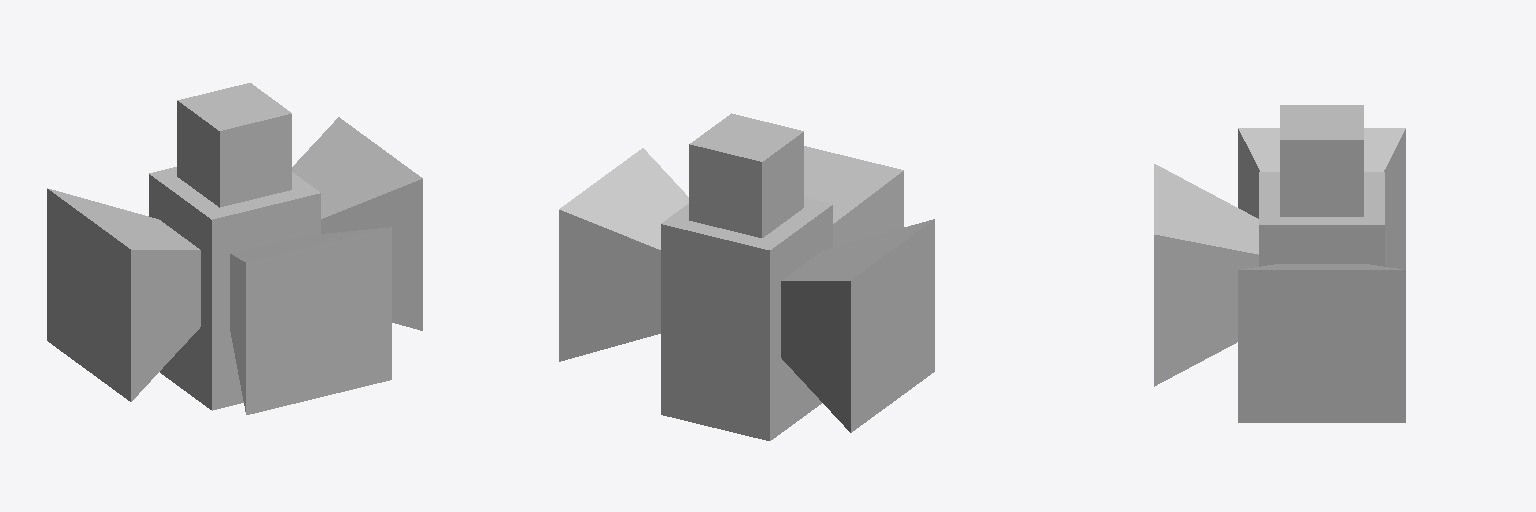
Rendered from siren.obj.
The picture shows the model from 3 angles: view 1: azimuth 30°, elevation 25°; view 2: azimuth 150°, elevation 25°; view 3: azimuth 270°, elevation 25°; orthographic projection.
Visible parts, largest first — view 1: siren; view 2: siren; view 3: siren.
Part boxes in pixels (left/top/right/bottom): siren: left=47, top=83, right=422, bottom=414; siren: left=559, top=113, right=934, bottom=440; siren: left=1154, top=105, right=1405, bottom=422.
Bounding box in the file's own units: 1 × 0.875 × 0.75.